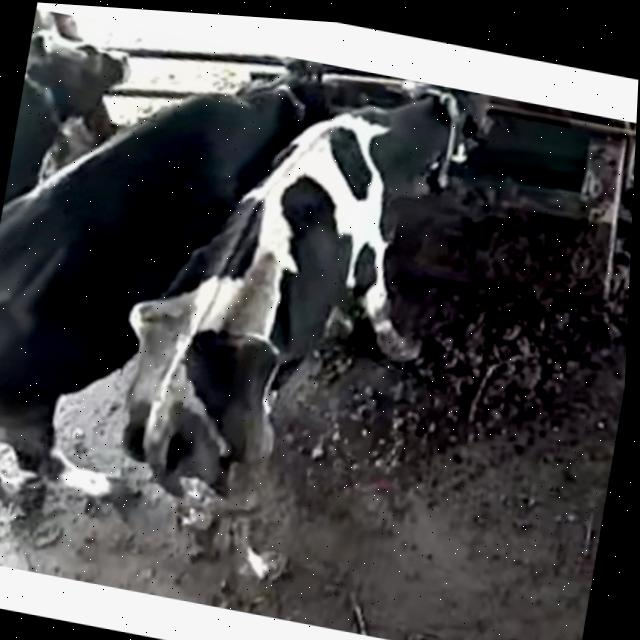drink: (347, 70, 527, 218), (194, 40, 366, 187)
